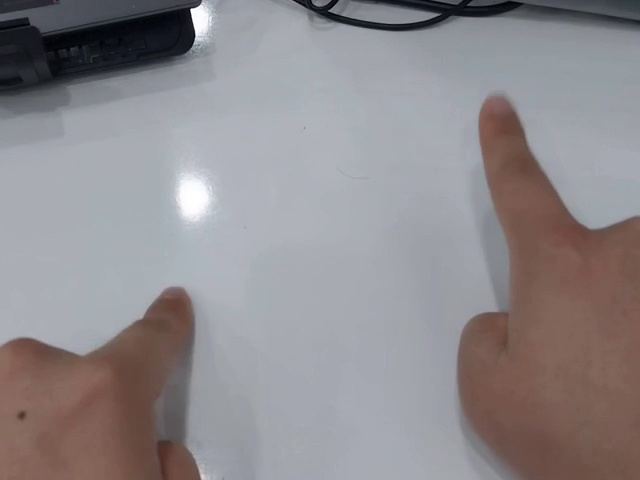fingers: (145, 285, 195, 331), (477, 91, 524, 132)
